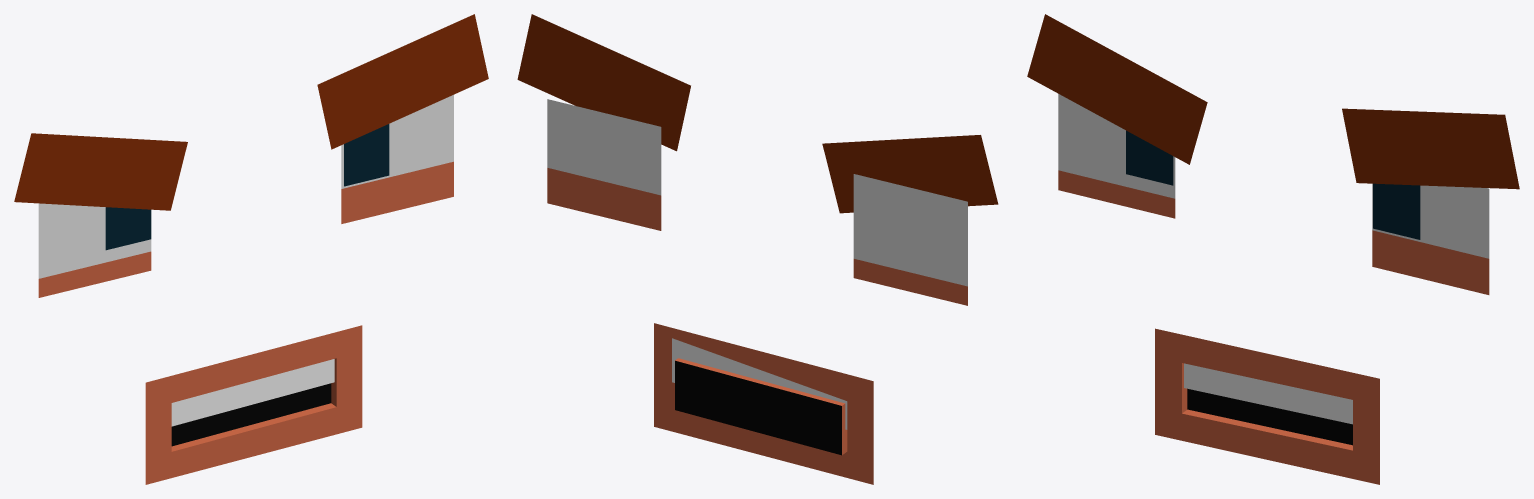
Rendered from Face Male 10.FBX.
3 renders of one model, left to right at view 1: azimuth 30°, elevation 25°; view 2: azimuth 150°, elevation 25°; view 3: azimuth 330°, elevation 25°, orthographic. The views are drawn at different scales.
Parts seen in each view (by area): view 1: Face Male 10; view 2: Face Male 10; view 3: Face Male 10.
Boxes of the visible parts, x1,y1,x2,y2 form: Face Male 10: [14, 14, 488, 484]; Face Male 10: [517, 14, 998, 484]; Face Male 10: [1027, 14, 1519, 484].
Size of the model in its own units: 39.53 by 30.76 by 1.01.
1 material, 1 textured.
